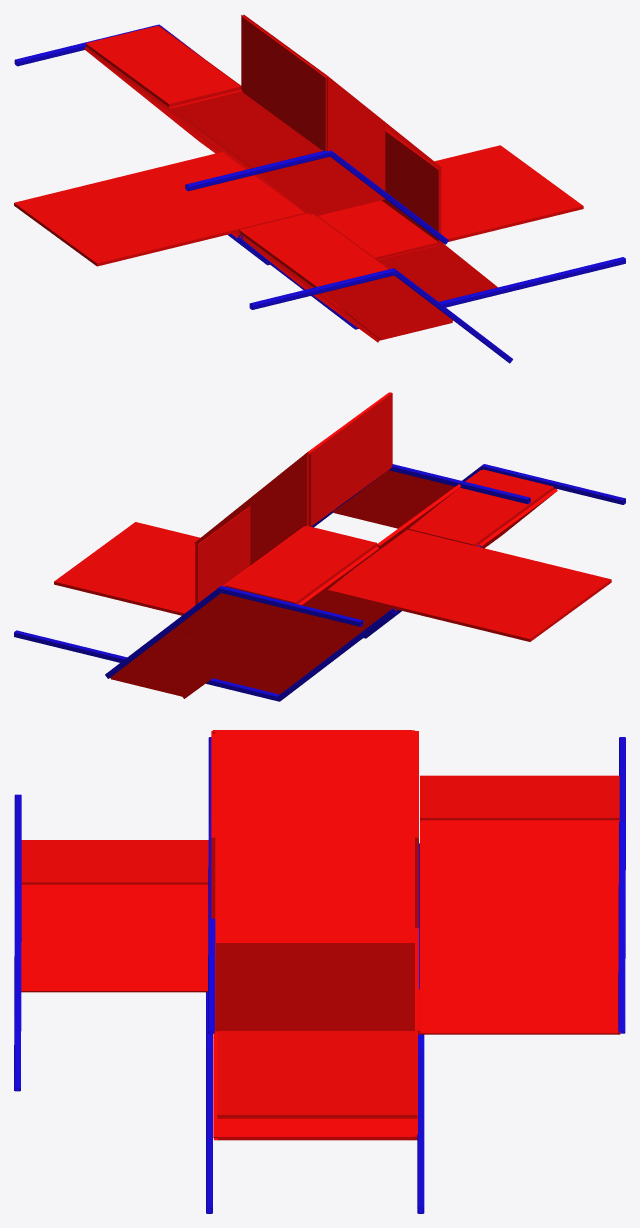
3 views of the same model, one above another, from view 1: azimuth 30°, elevation 25°; view 2: azimuth 150°, elevation 25°; view 3: azimuth 270°, elevation 25° (orthographic). The views are drawn at different scales.
Visible parts, largest first — view 1: Obj_000003; view 2: Obj_000003; view 3: Obj_000003.
Boxes of the visible parts, left/top/right/bottom form: Obj_000003: left=14, top=14, right=625, bottom=363; Obj_000003: left=14, top=392, right=625, bottom=701; Obj_000003: left=14, top=730, right=625, bottom=1213.
Size of the model in its own units: 3.64 by 1.71 by 3.06.
